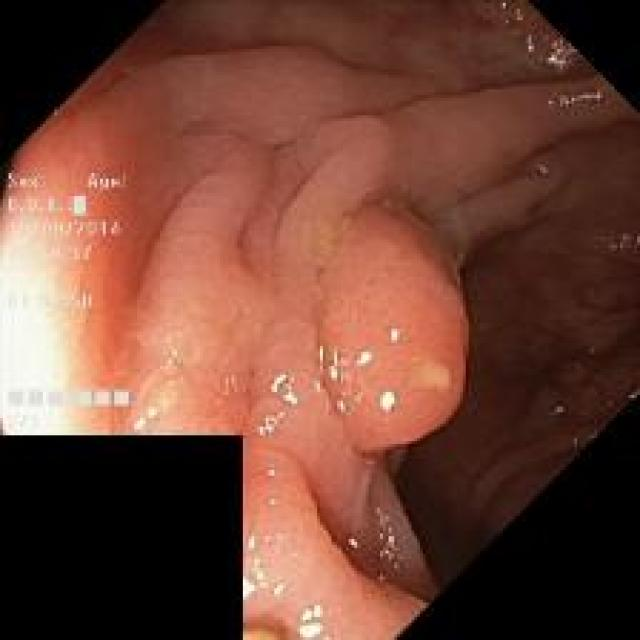Polyps: (315, 206, 469, 462)
